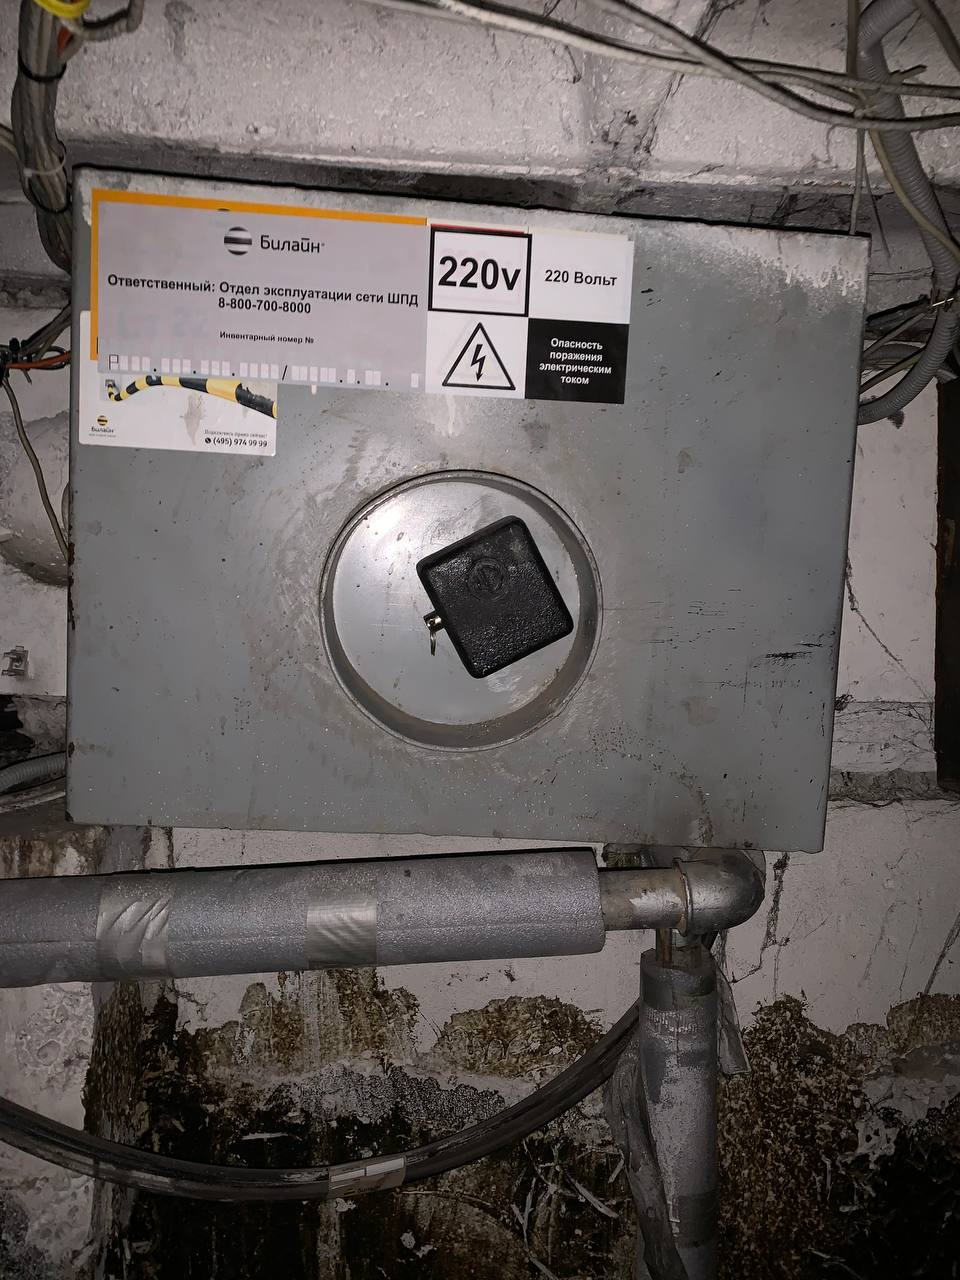shta-3: (58, 162, 876, 859)
